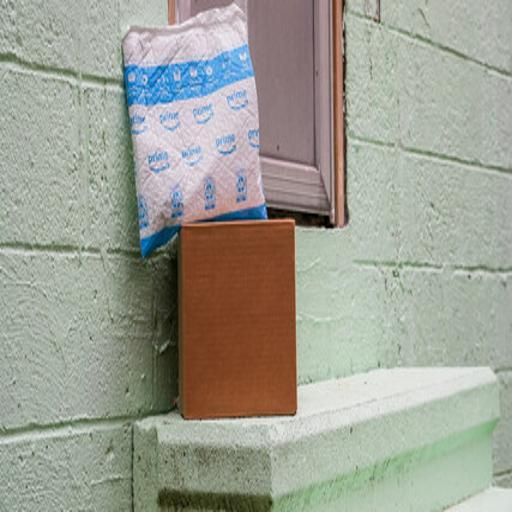Amazon: (119, 0, 271, 258)
